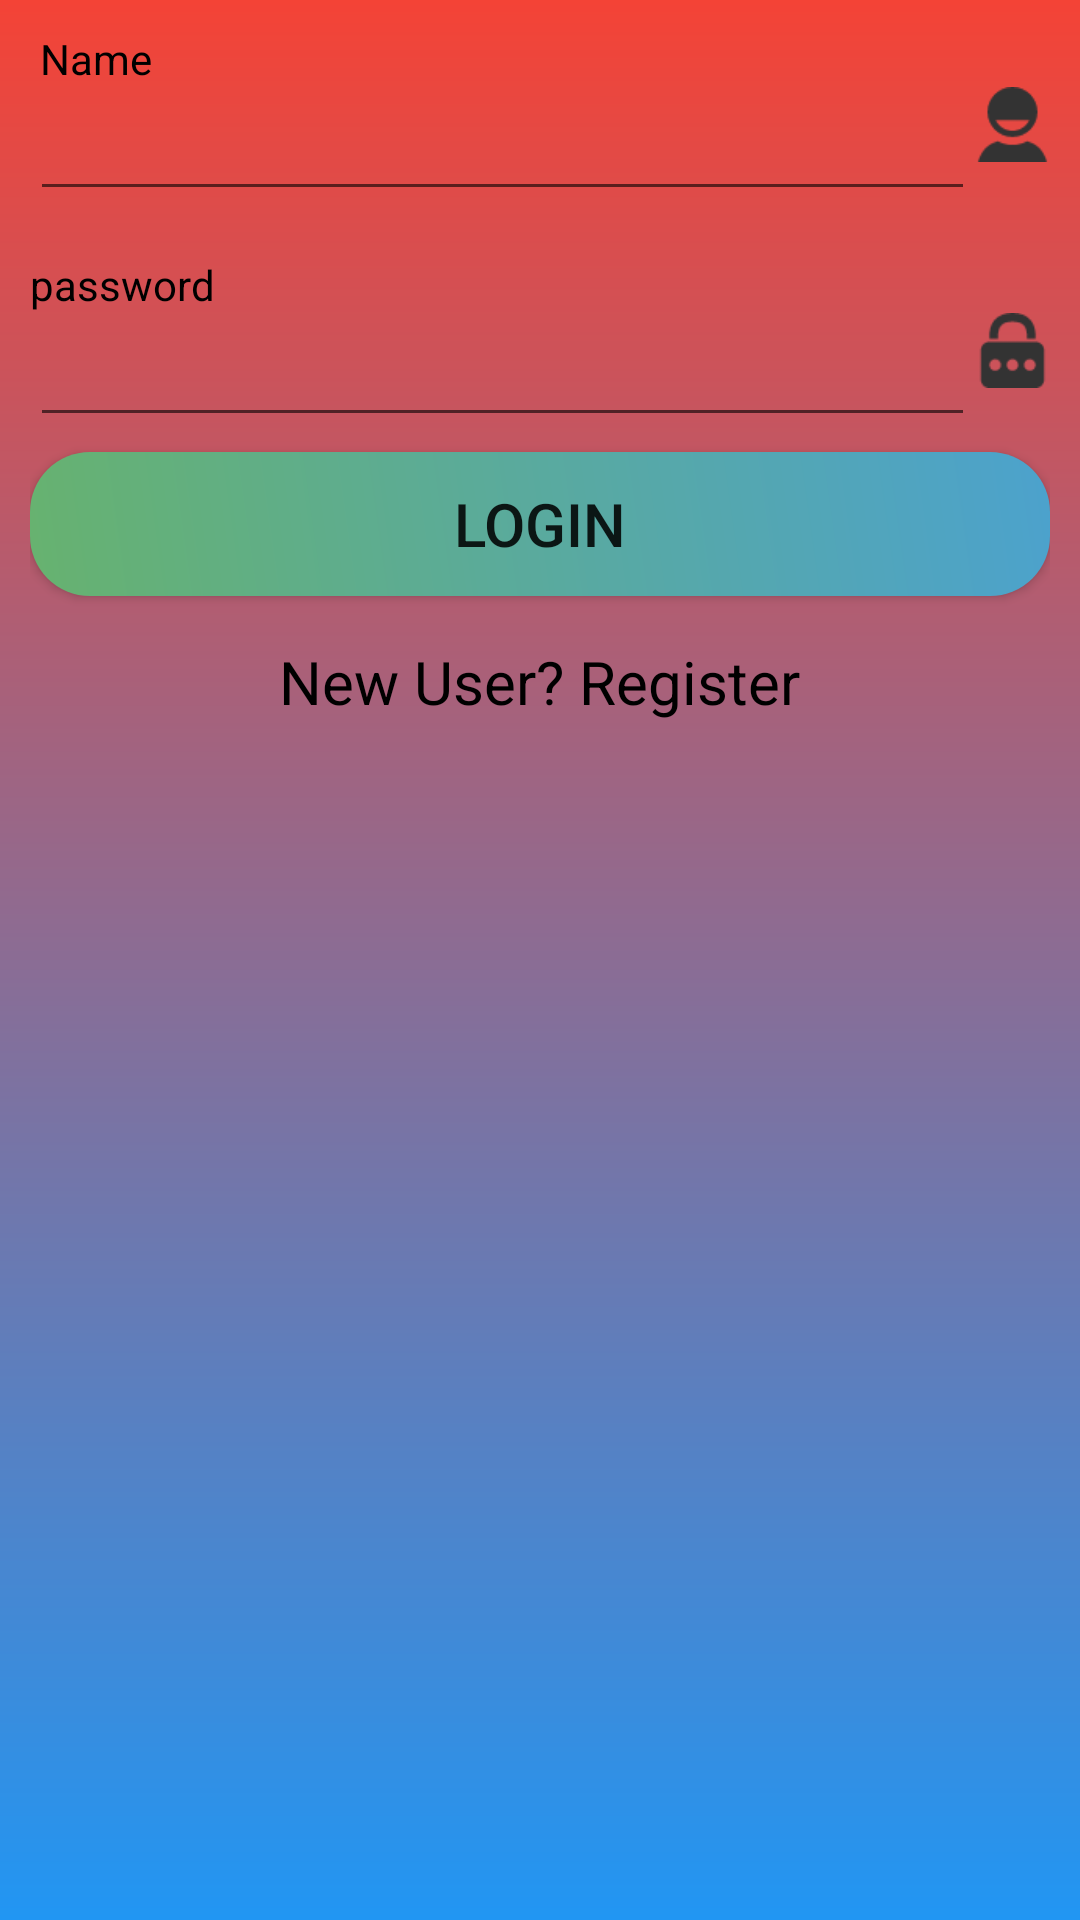

Icons on this 1080w x 1920h Android screen, each with its box as (x1, y1, x2, y2):
lock: (980, 313, 1045, 388)
user: (978, 87, 1047, 162)
